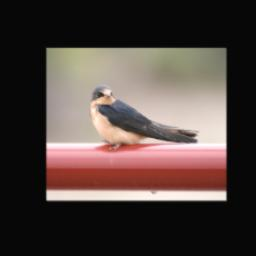Swallow: (89, 82, 200, 155)
